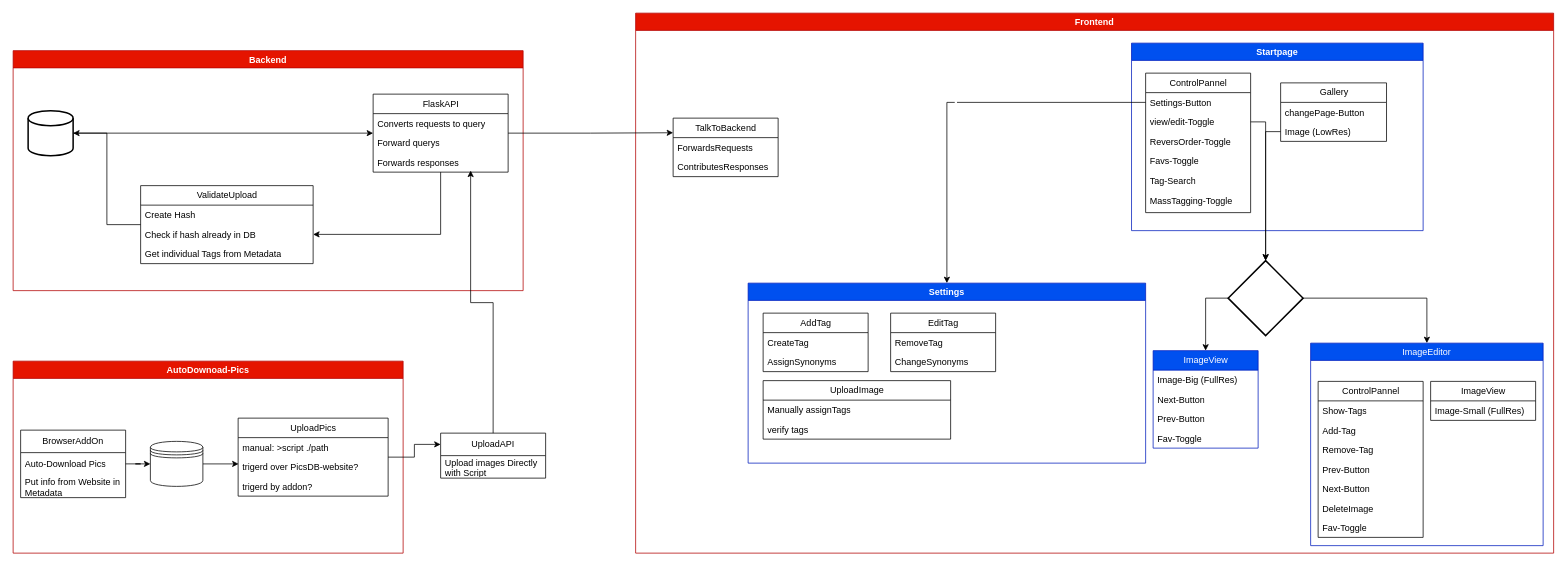
The diagram is 1567 pixels wide and 566 high, and some of its shapes have lost their labels. Here are the shapes that lost their labels. From the top down, the centre of each, then its label:
At (50,133): "PSQL".
At (1265,298): "view/edit setting".
At (176,463): "Filesystem".
